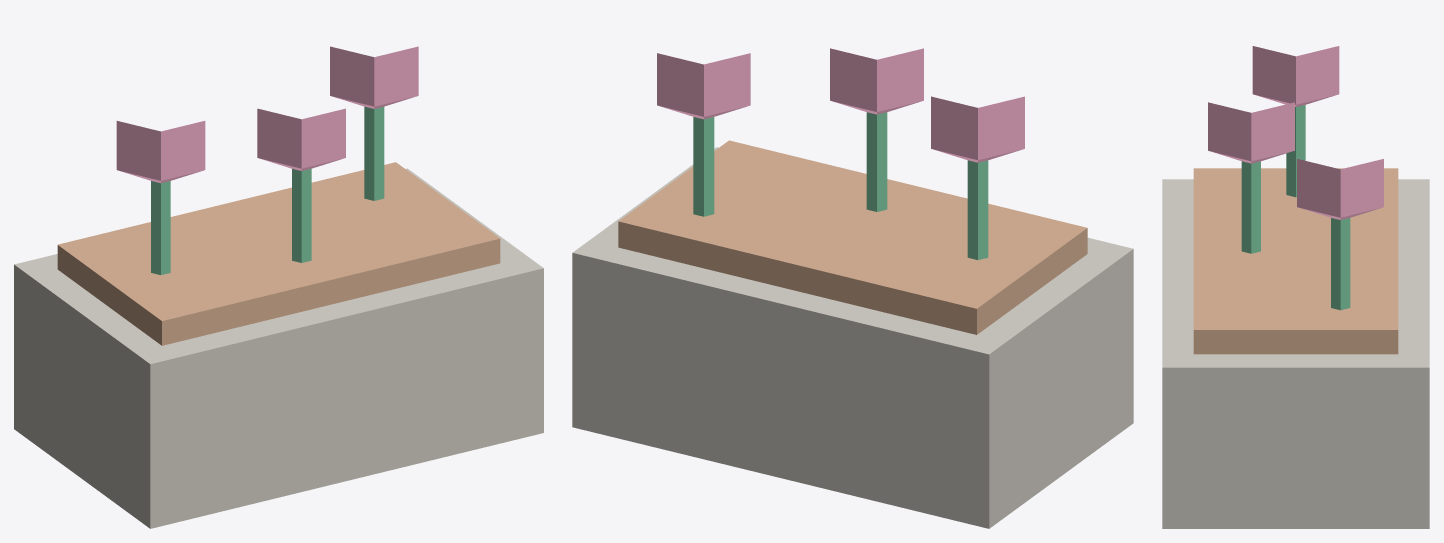
Rendered from 19_flower_planter.glb.
3 renders of one model, left to right at view 1: azimuth 30°, elevation 25°; view 2: azimuth 150°, elevation 25°; view 3: azimuth 270°, elevation 25°, orthographic. The views are drawn at different scales.
Visible parts, largest first — view 1: 19_flower_planter; view 2: 19_flower_planter; view 3: 19_flower_planter.
Part boxes in pixels (<box>): 19_flower_planter: <box>14,46,543,528</box>; 19_flower_planter: <box>572,48,1133,528</box>; 19_flower_planter: <box>1162,46,1429,528</box>.
Bounding box in the file's own units: 1 × 0.85 × 0.6.
